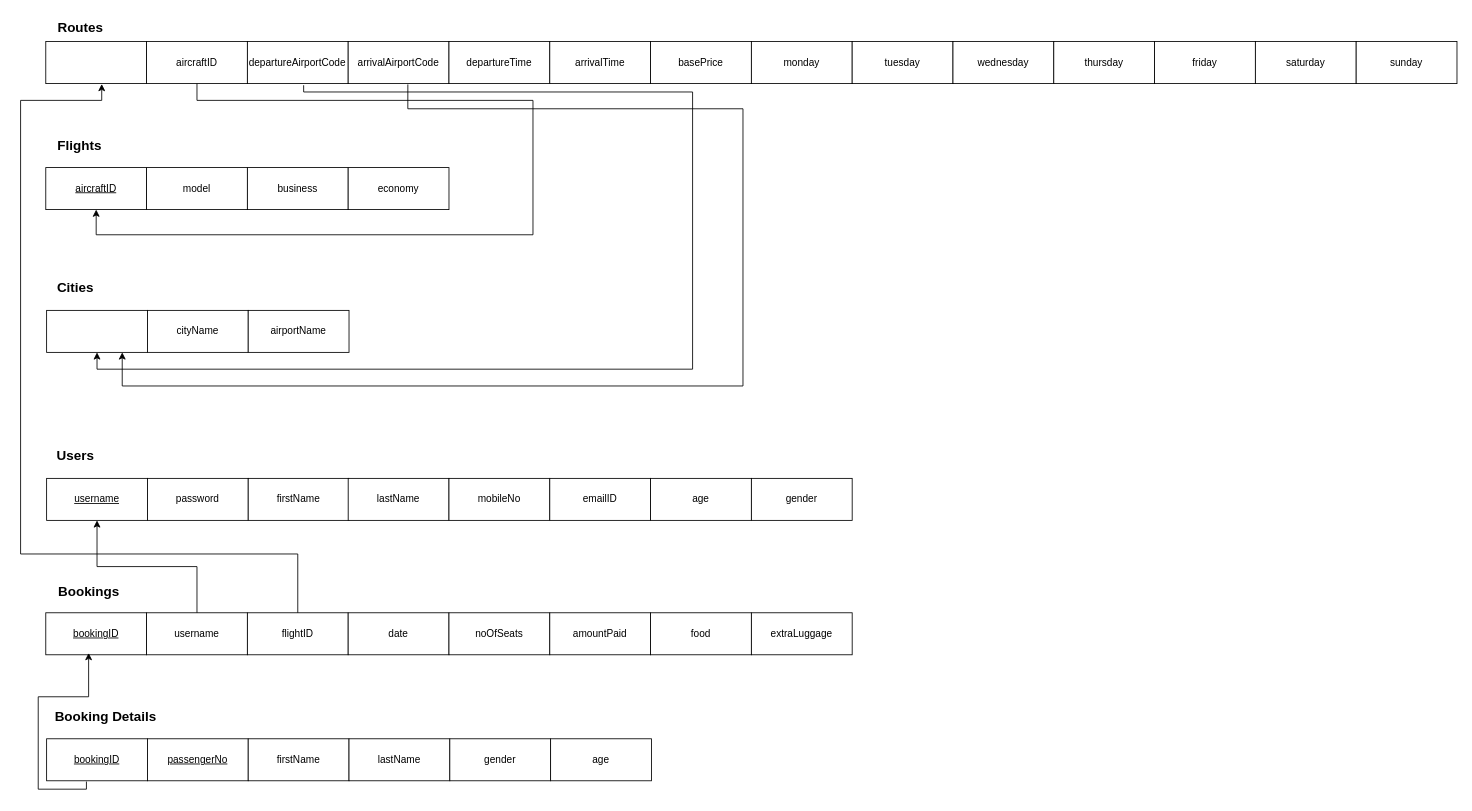
Image size: 1472x811. Some labels were removed from this diagram. The shapes that lost their labels are listed below. From the top down, each one's box as (x1, y1, x2, y2) in pixels, then its label:
(45, 41, 147, 84): id
(46, 310, 147, 352): cityID
